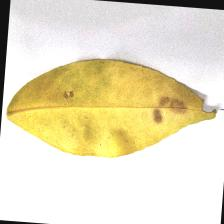black spot: (54, 75, 224, 140)
